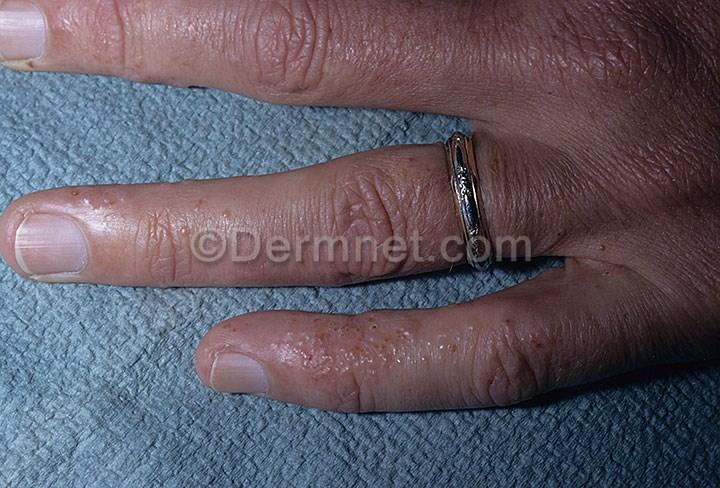Eczema: (268, 317, 468, 391), (493, 307, 581, 365), (71, 186, 137, 215)
